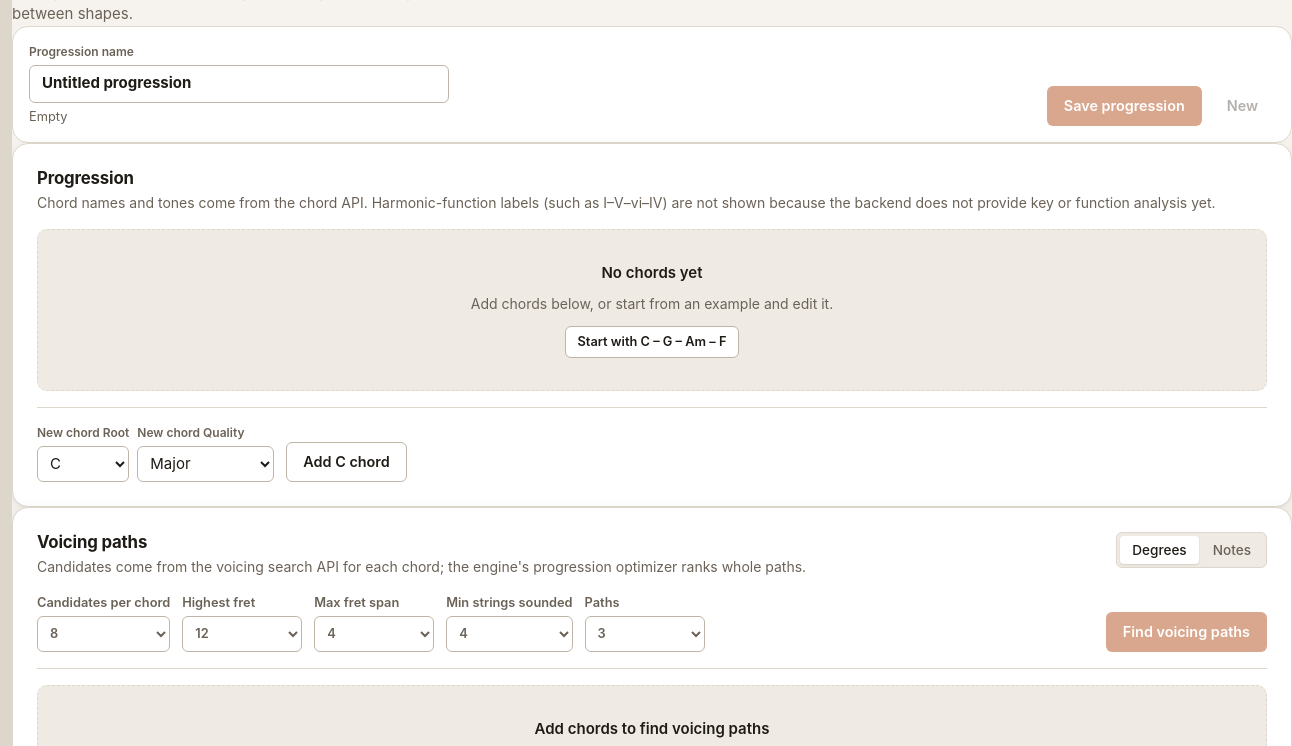
ProgressionBuilder › shows an empty state naming the chord the voicing search returned nothing for
Step 1. Click the button "Start with C – G – Am – F" → (652, 342), box [564, 326, 739, 358]
(page scrolled)
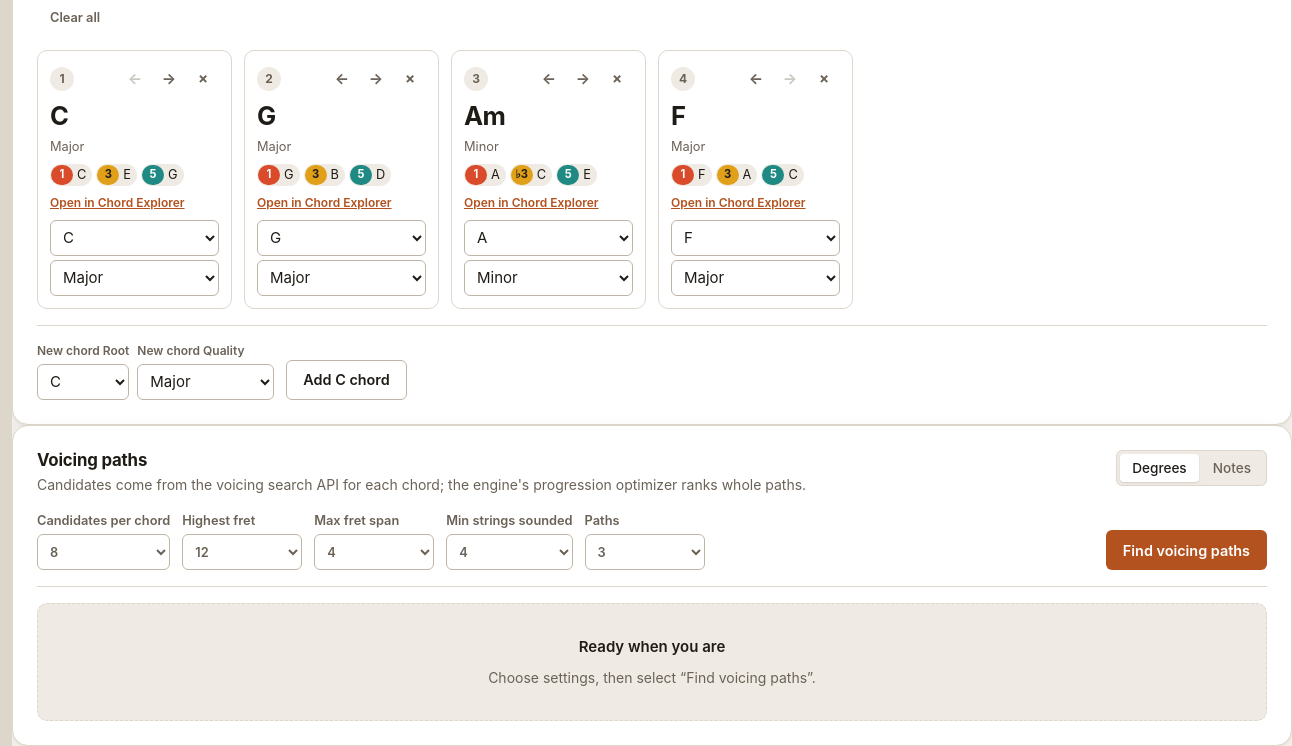
Step 2. Click the button "Find voicing paths" → (1186, 550), box [1106, 530, 1267, 570]
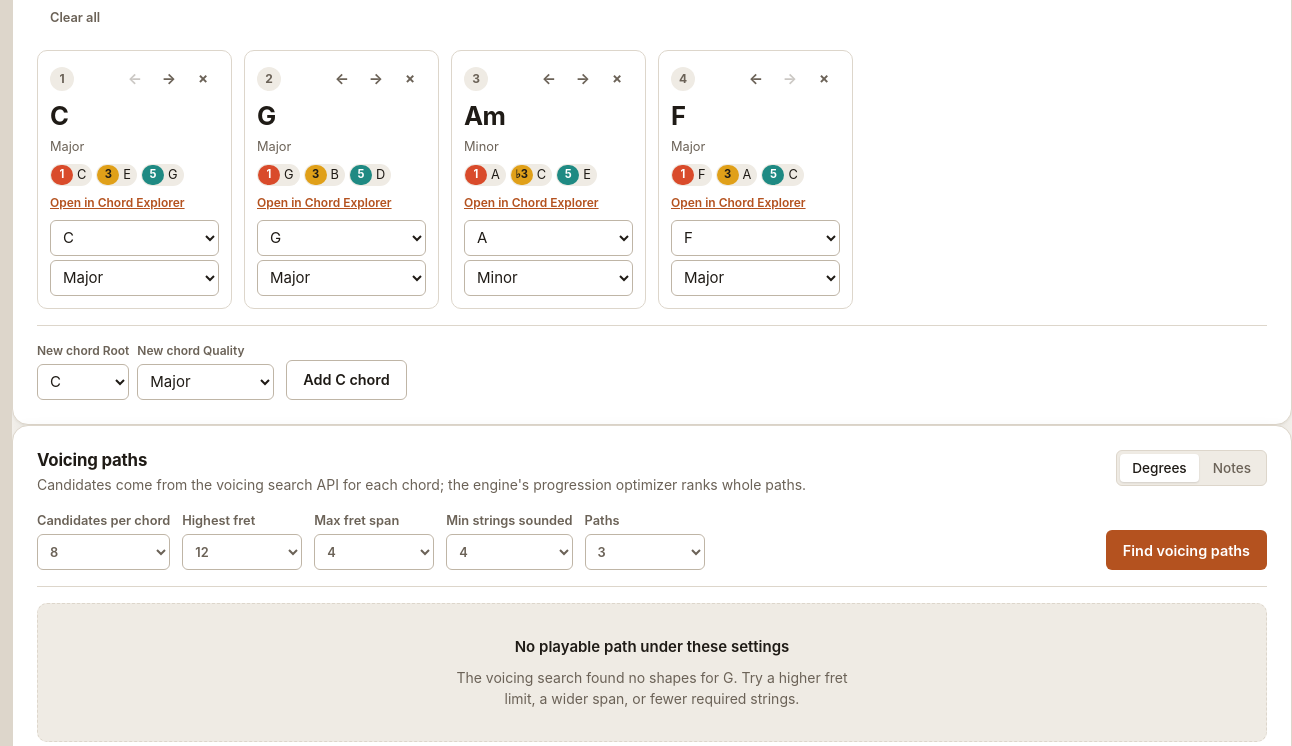
expect the text "No playable path under these settings" is shown: met, box [515, 636, 789, 659]
expect the text "found no shapes for G." is shown: met, box [456, 669, 741, 686]
